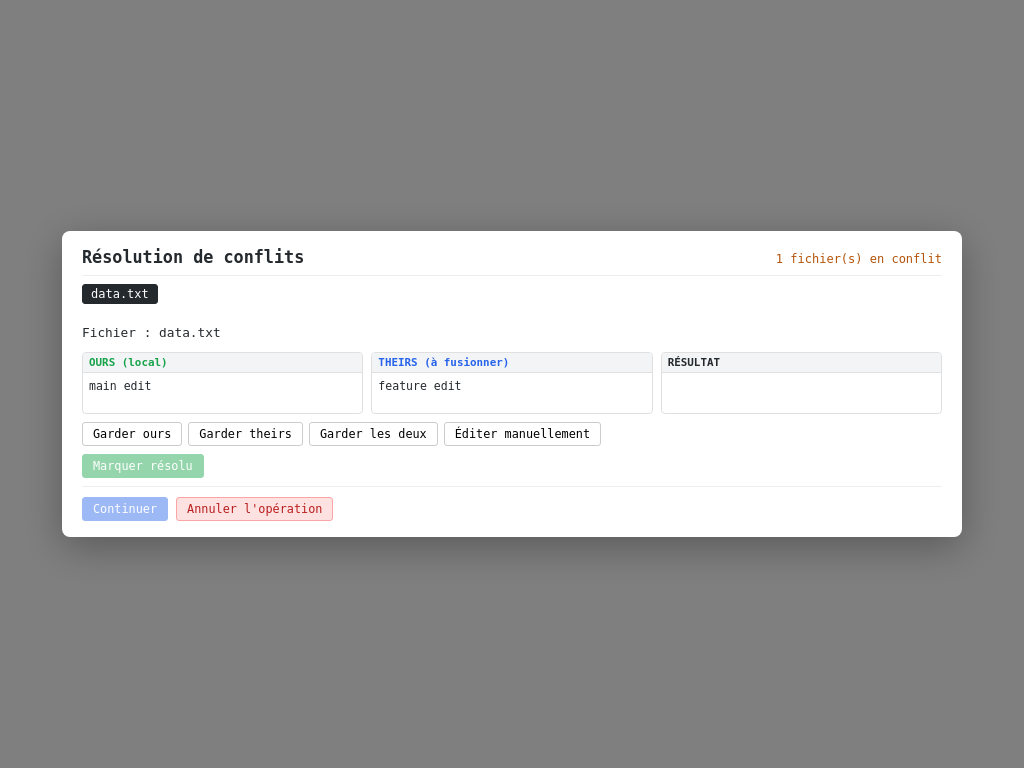
Test case: ConflictEditorModal › CA-04 : « Garder ours » prévisualise le contenu local
Click the button "Garder ours".
click(132, 434)  # box [82,422,182,446]
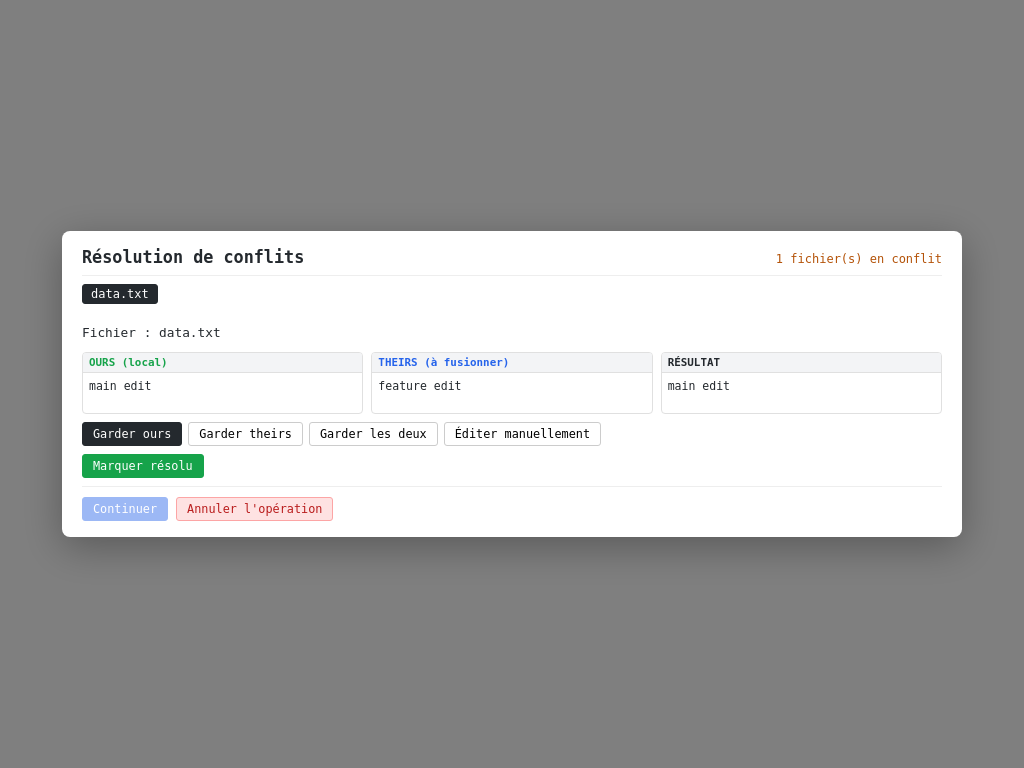
Result: the element with class "col-result" shows "main edit" at [668,379,730,393]
